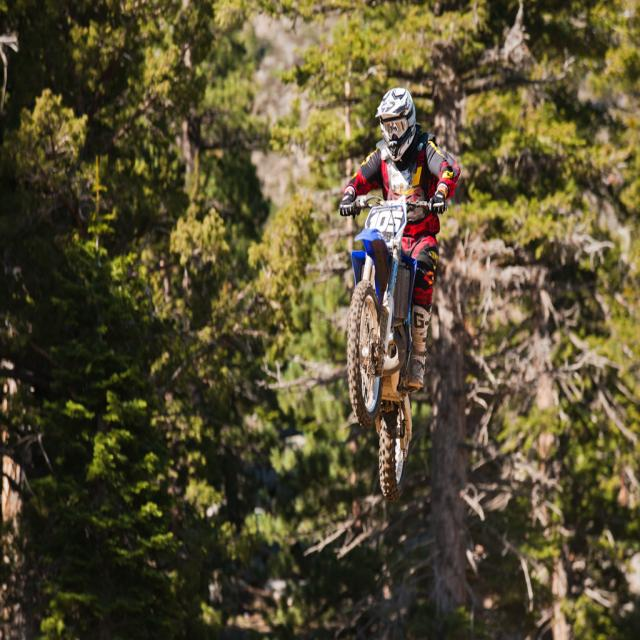Motorbikes: (313, 198, 437, 510)
